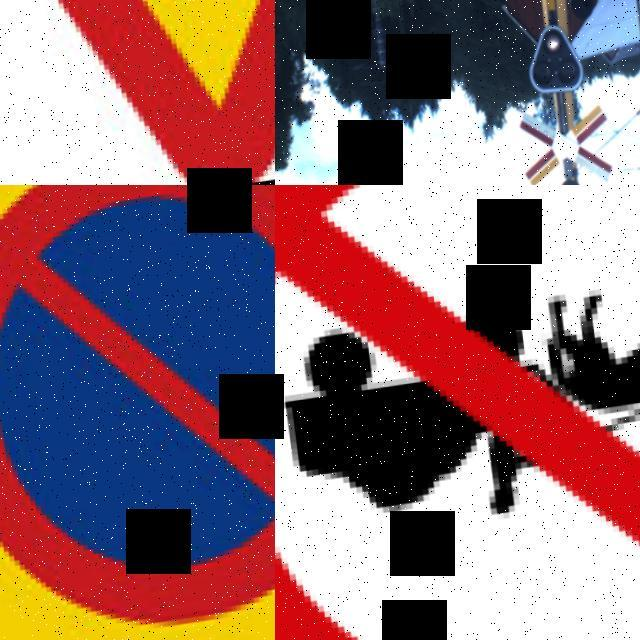131: (0, 0, 275, 185)
62: (508, 98, 618, 185)
82: (0, 185, 275, 640)
No entry for bullock carts: (275, 185, 640, 640)
